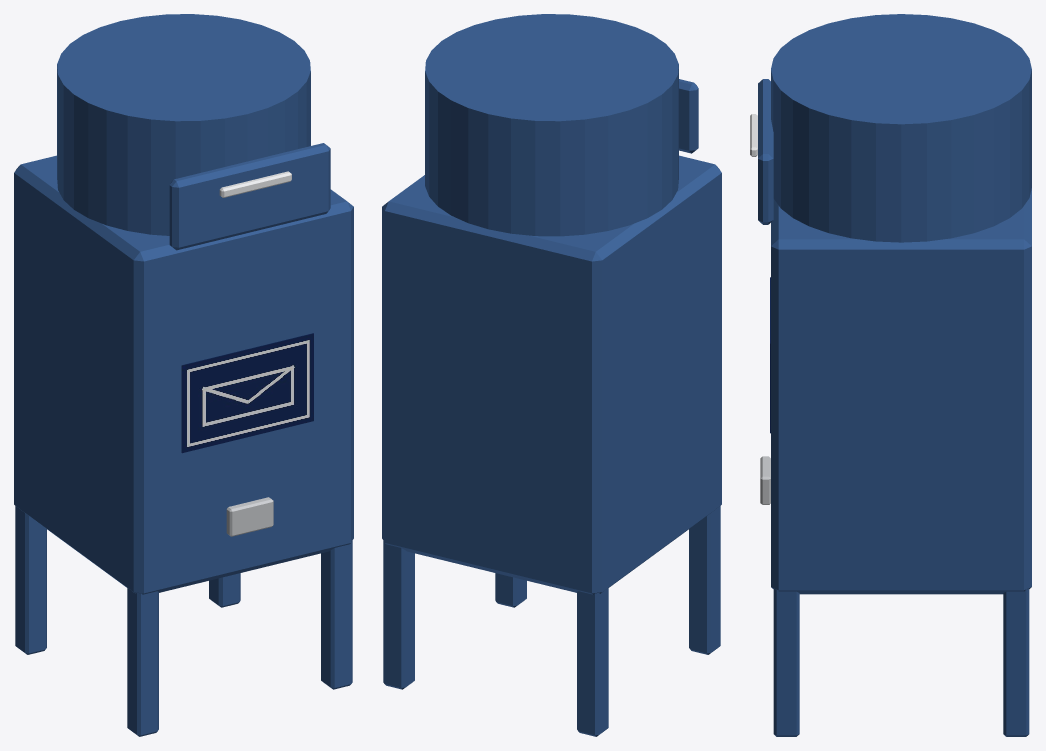
The model's file is caixa_correio_rua.glb.
3 views of the same model, side by side, from view 1: azimuth 30°, elevation 25°; view 2: azimuth 150°, elevation 25°; view 3: azimuth 270°, elevation 25° (orthographic). The views are drawn at different scales.
Parts seen in each view (by area): view 1: caixa_correio_rua_azul_correio, caixa_correio_rua_selo_correio, caixa_correio_rua_portinhola_azul_correio, caixa_correio_rua_aco, caixa_correio_rua_portinhola_aco_polido; view 2: caixa_correio_rua_azul_correio, caixa_correio_rua_portinhola_azul_correio; view 3: caixa_correio_rua_azul_correio, caixa_correio_rua_portinhola_azul_correio, caixa_correio_rua_aco.
Boxes of the visible parts, x1=… form: caixa_correio_rua_azul_correio: x1=14, y1=14, x2=353, y2=736; caixa_correio_rua_selo_correio: x1=181, y1=333, x2=313, y2=453; caixa_correio_rua_portinhola_azul_correio: x1=169, y1=143, x2=330, y2=250; caixa_correio_rua_aco: x1=226, y1=497, x2=273, y2=536; caixa_correio_rua_portinhola_aco_polido: x1=219, y1=171, x2=291, y2=197; caixa_correio_rua_azul_correio: x1=382, y1=14, x2=721, y2=736; caixa_correio_rua_portinhola_azul_correio: x1=679, y1=79, x2=698, y2=153; caixa_correio_rua_azul_correio: x1=771, y1=14, x2=1031, y2=736; caixa_correio_rua_portinhola_azul_correio: x1=758, y1=79, x2=773, y2=224; caixa_correio_rua_aco: x1=760, y1=456, x2=770, y2=504.
Bounding box in the file's own units: 0.5 × 1.3 × 0.54.
5 materials, 1 textured.
